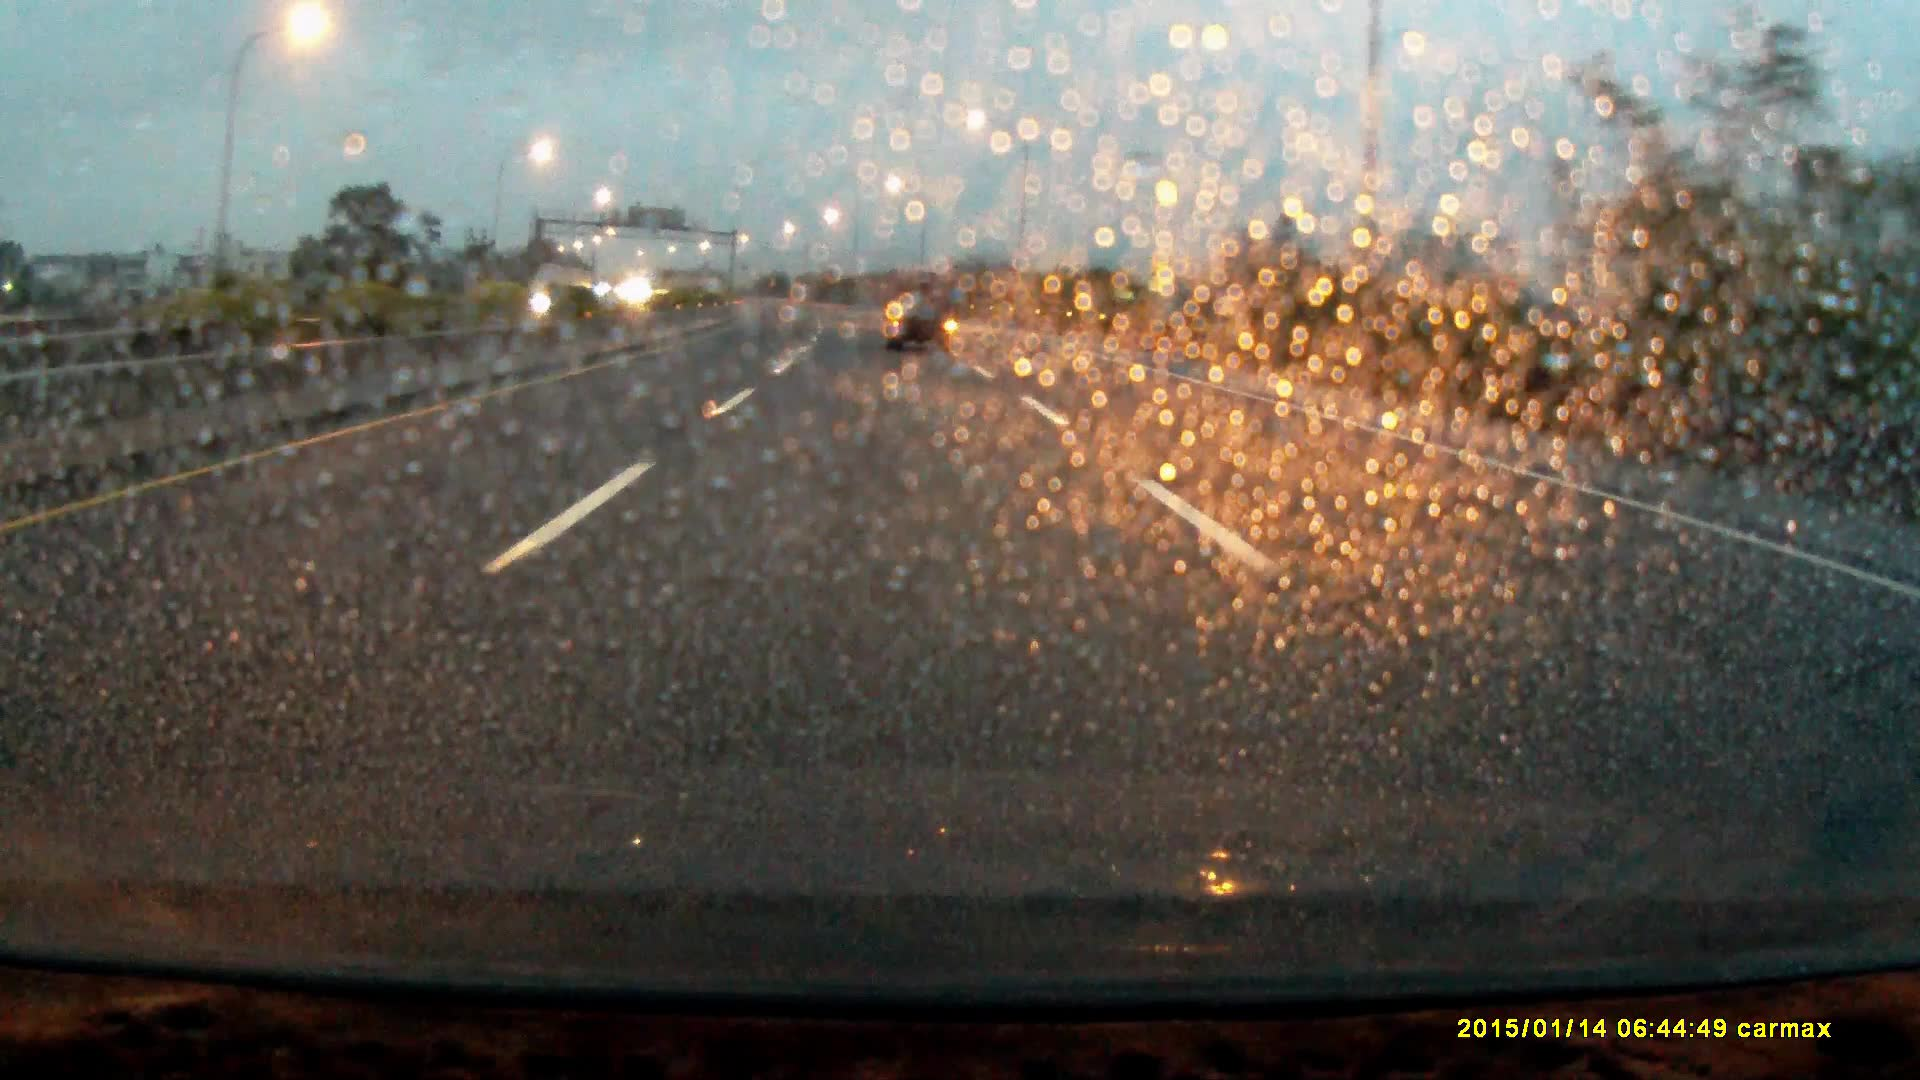vehicle: (886, 270, 957, 353)
